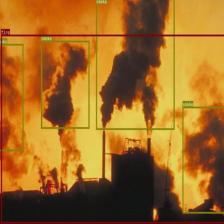fire: (0, 34, 224, 223)
smoke: (96, 0, 174, 130), (182, 106, 224, 213), (41, 40, 89, 128), (0, 44, 23, 151)
